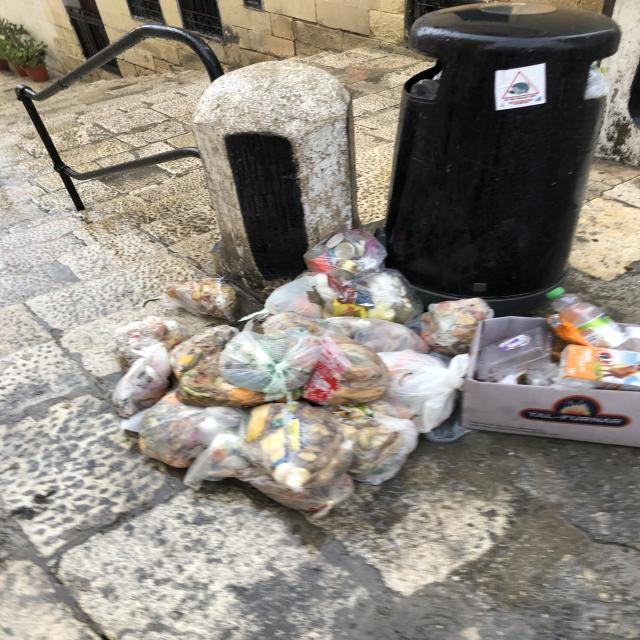Organic Waste -White Bag-: (185, 436, 357, 512), (268, 315, 383, 406), (242, 406, 360, 489), (332, 407, 422, 487), (141, 400, 243, 468), (221, 330, 325, 393), (377, 352, 456, 434), (319, 317, 431, 359), (336, 271, 427, 322), (304, 229, 392, 280), (115, 344, 174, 420), (419, 298, 498, 354), (115, 318, 191, 376), (162, 277, 240, 324), (266, 276, 343, 322), (172, 326, 240, 378)
Other: (468, 289, 640, 450)
